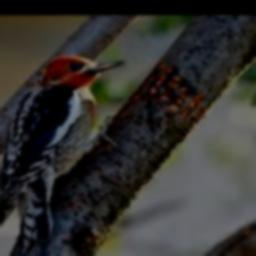Woodpecker: (0, 55, 126, 256)
